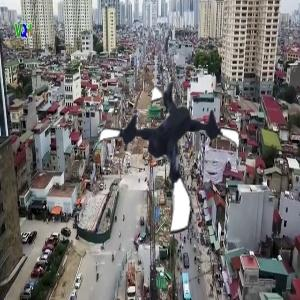drone: (90, 79, 248, 237)
